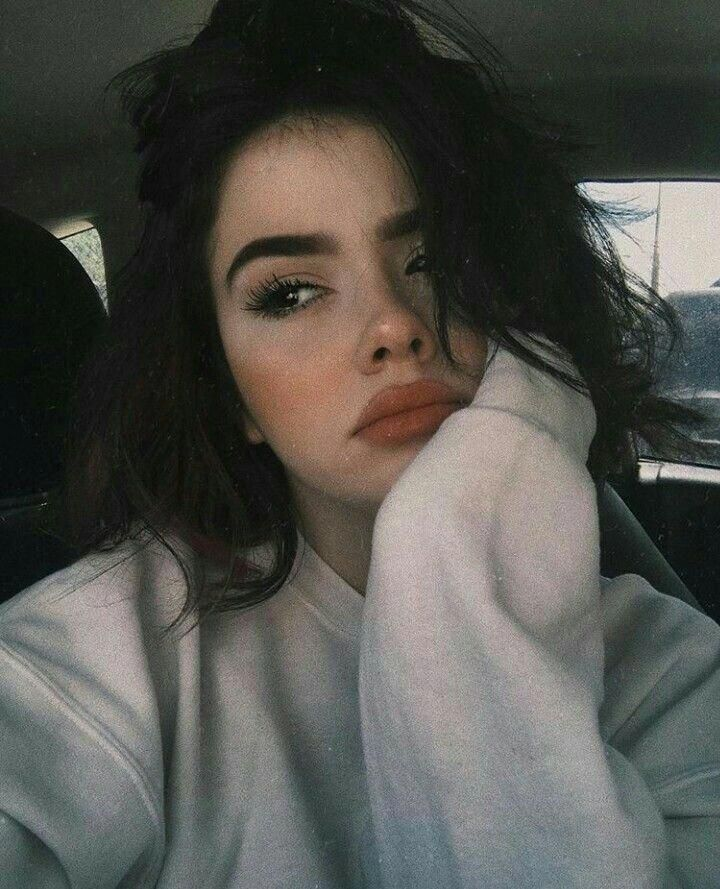GIRL: (139, 51, 611, 512)
